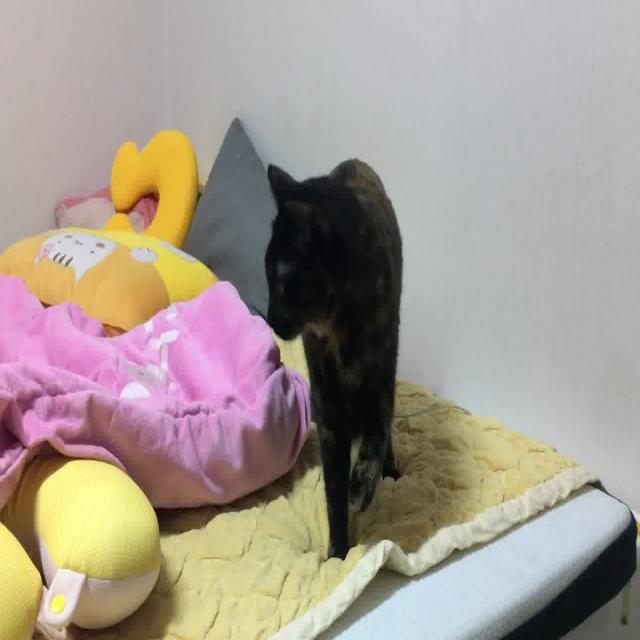cat: (254, 149, 410, 565)
